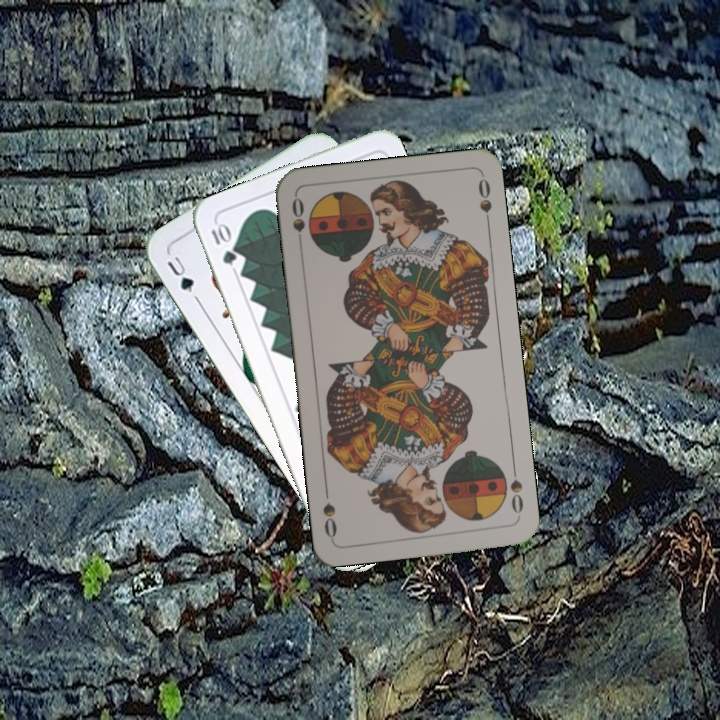G10: (207, 219, 239, 268)
GU: (163, 249, 201, 304)
SO: (287, 194, 308, 252), (506, 461, 526, 521)
